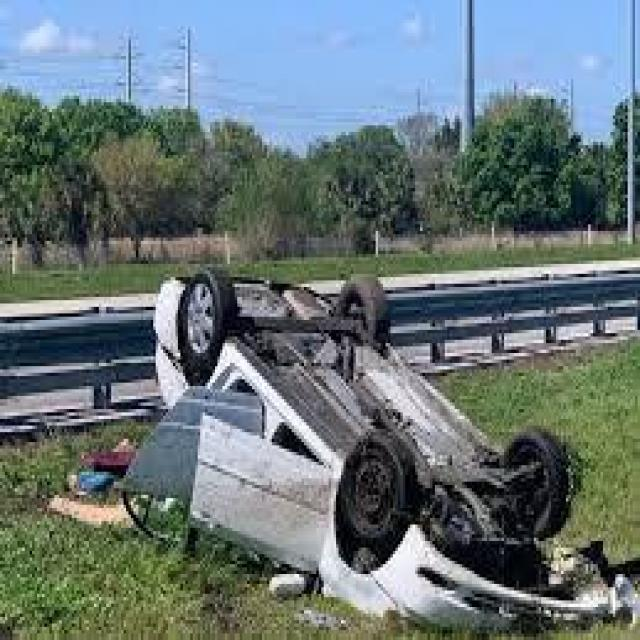accident: (116, 269, 581, 632)
